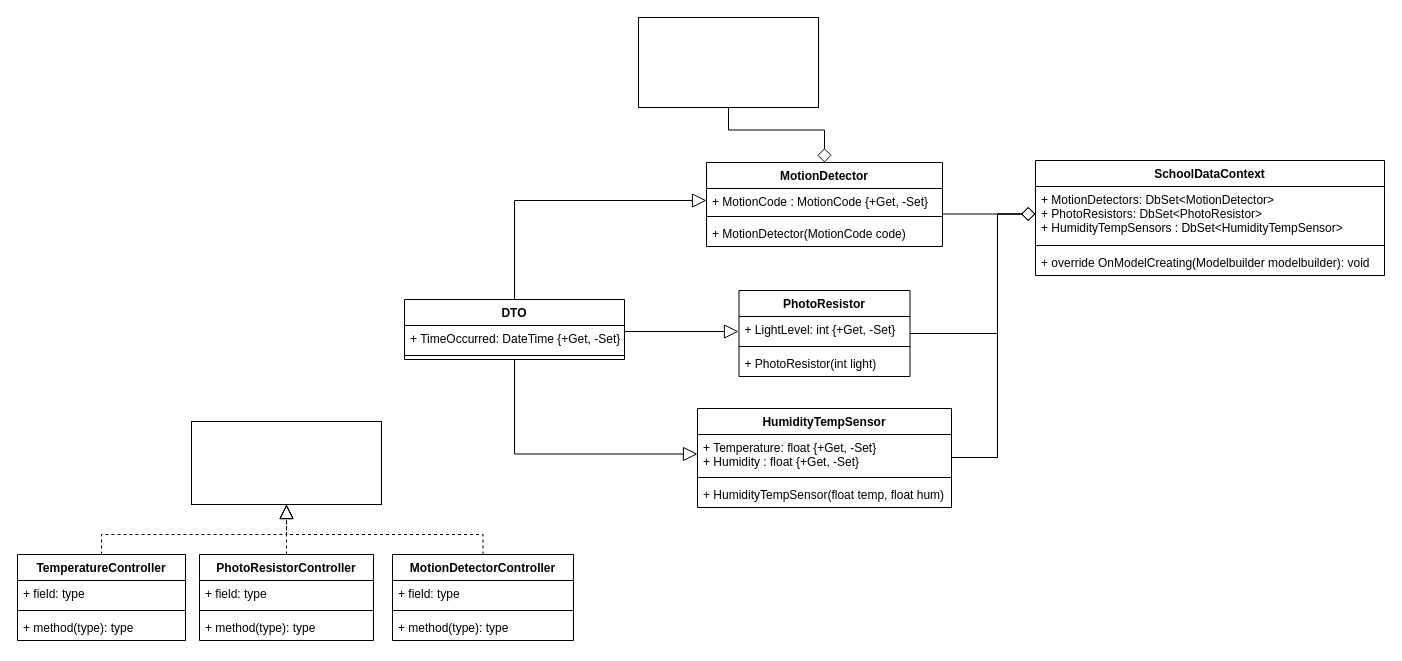
Some shapes in this 1402 by 661 pixel diagram are drawn without their labels. Here are the shapes that lost their labels. From the top down, the centre of each, then its label:
At (x=728, y=62): "«Enum» MotionCode MotionEnded = 0 MotionDetected = 1".
At (x=286, y=462): "<<Interface>> IFetchData + method1(Type): Type + method2(Type, Type): Type".
